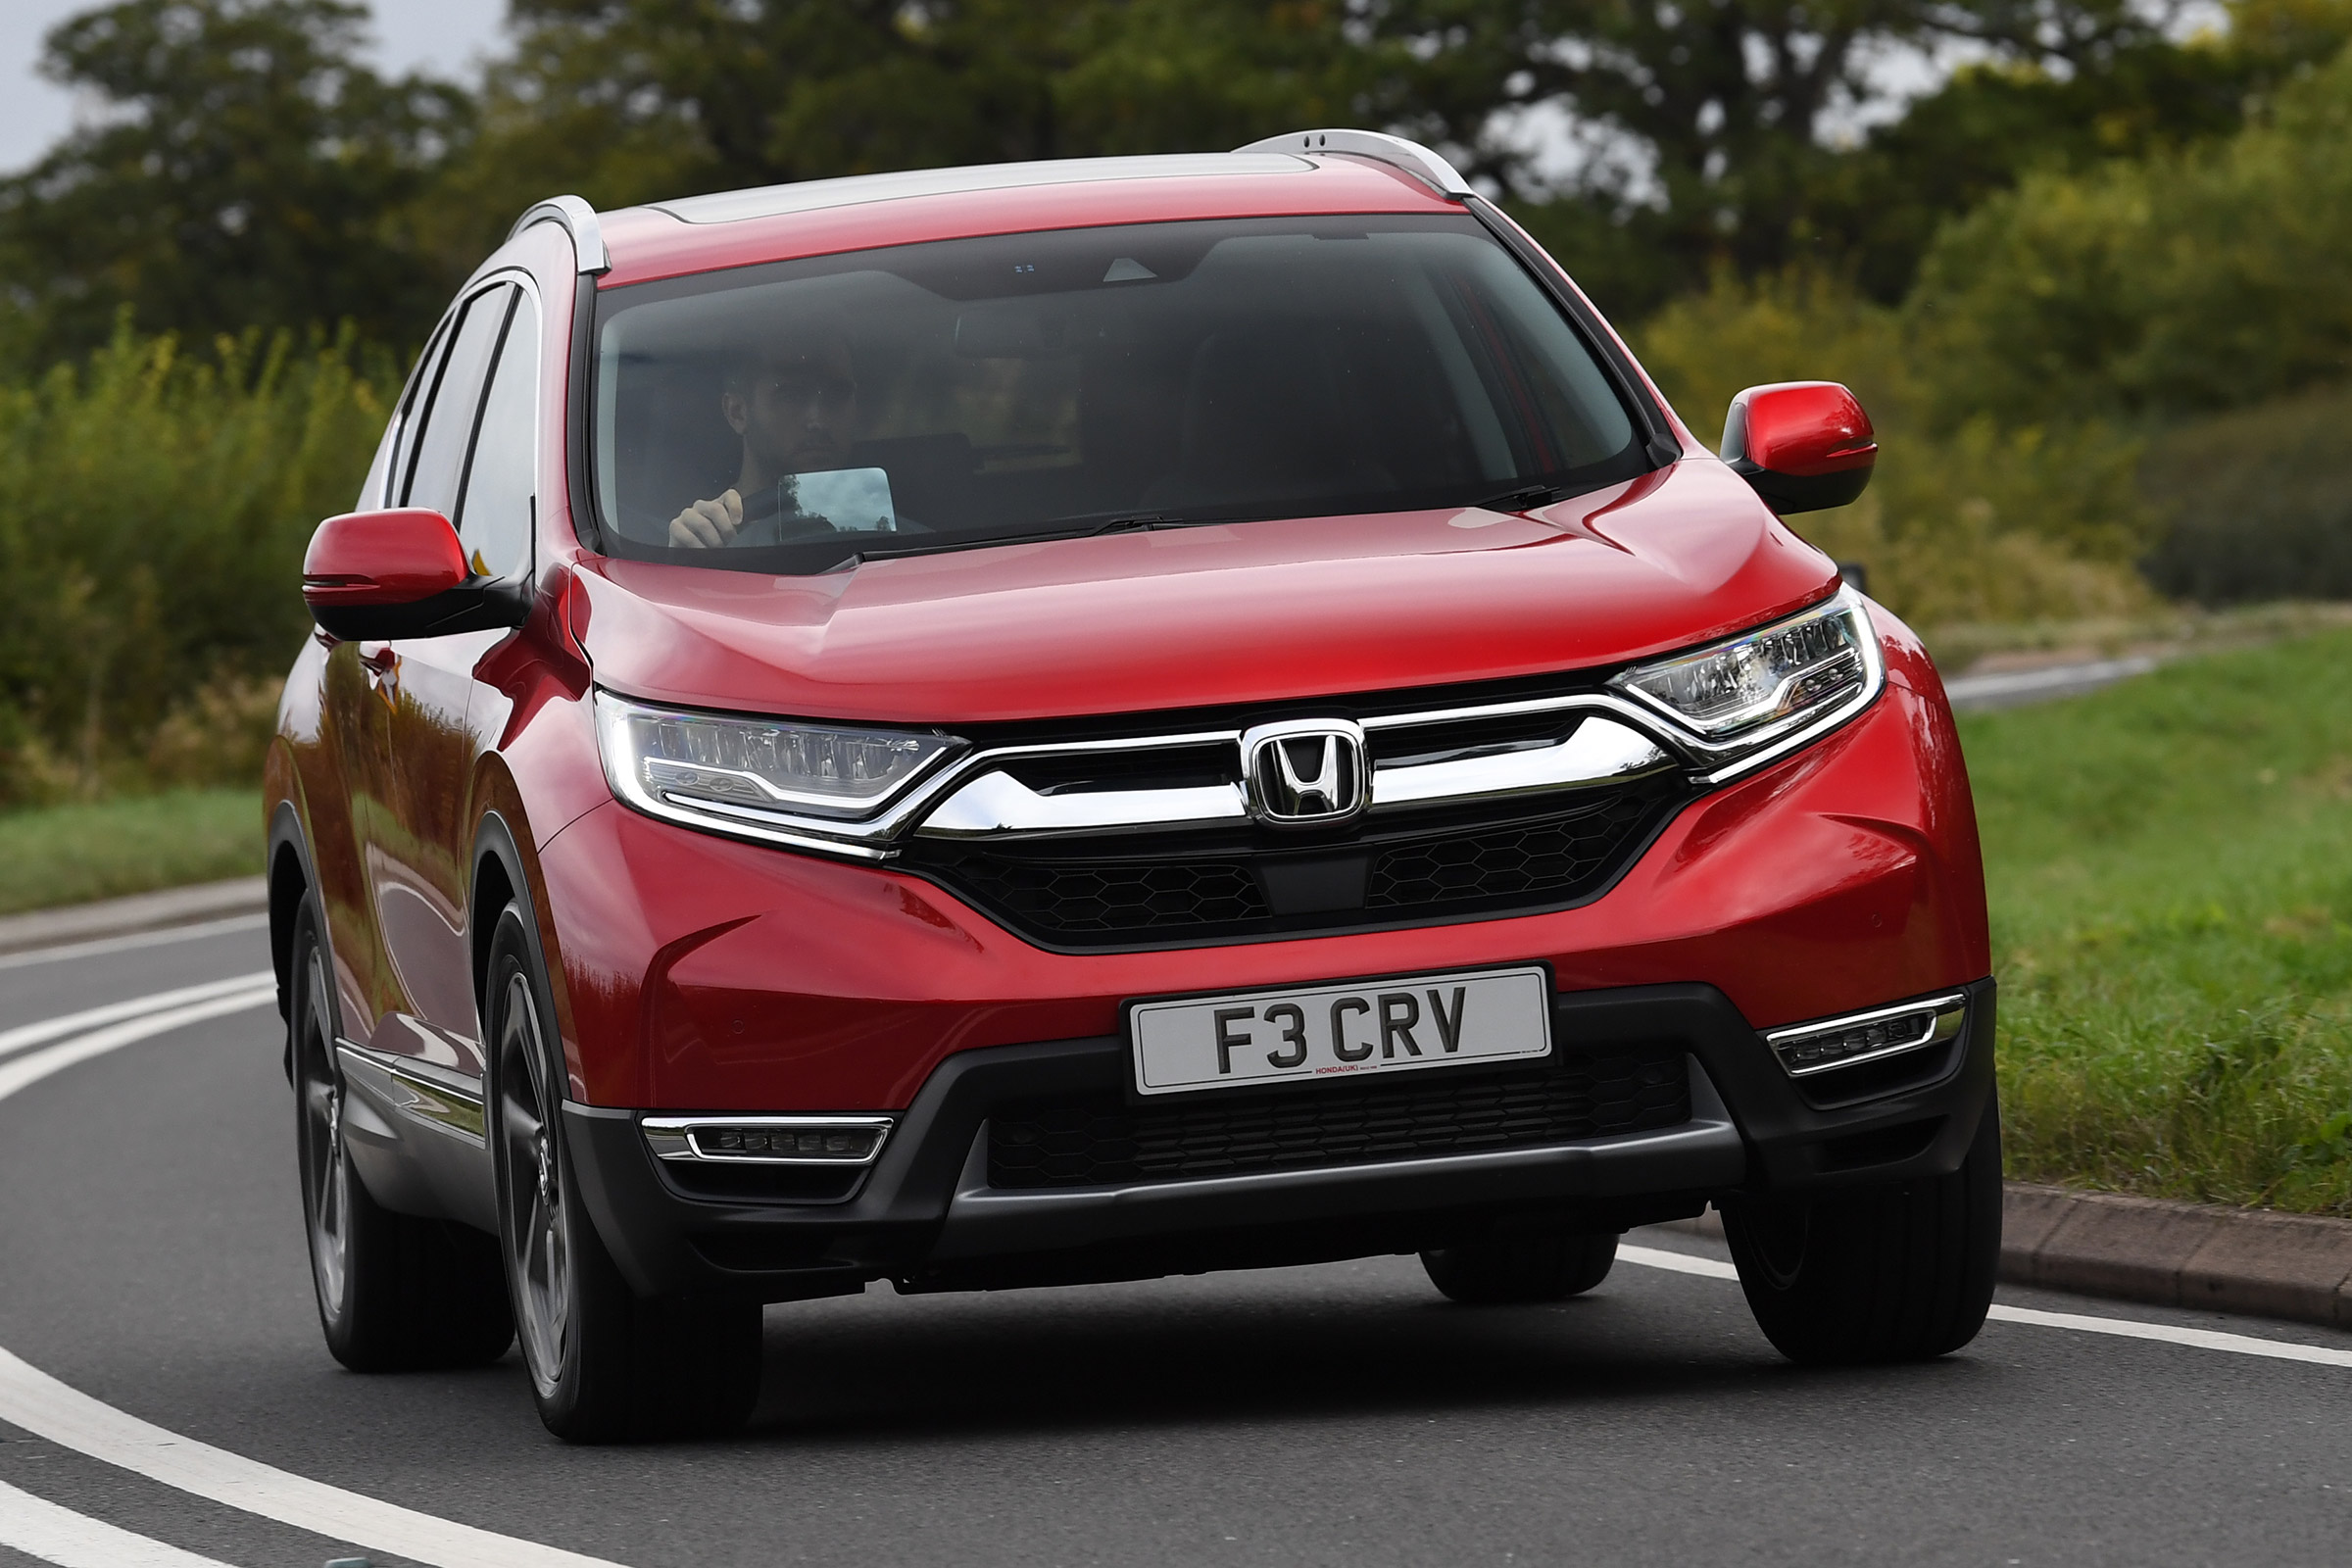crv: (248, 114, 2056, 1473)
